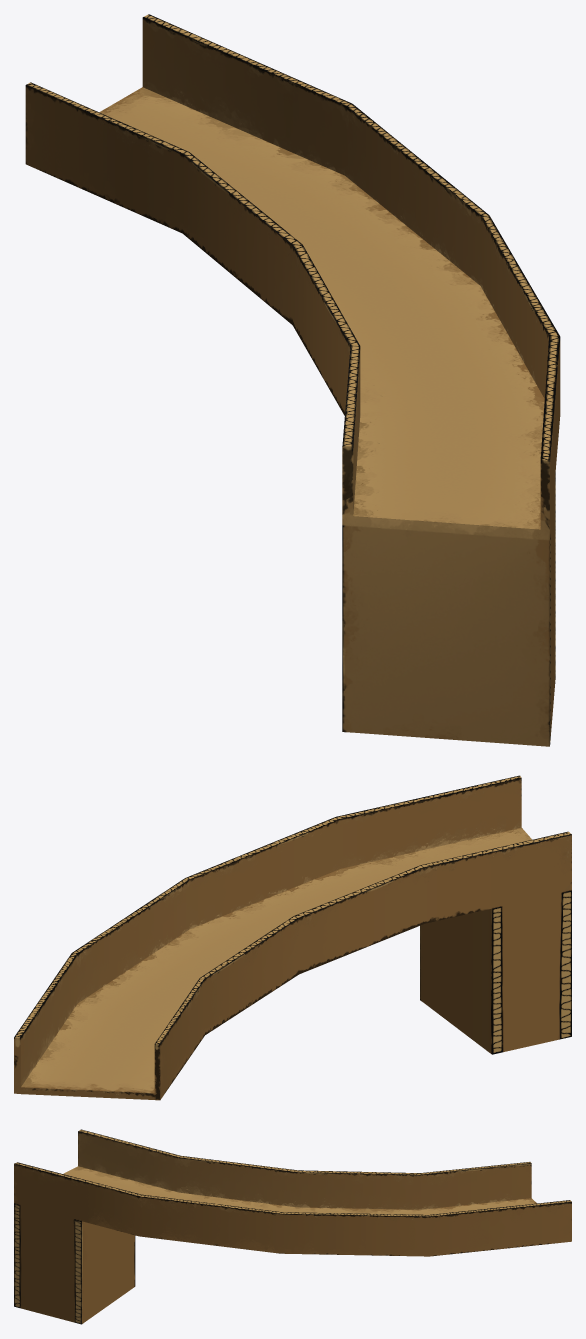
The model's file is SM_Part10_Playtrack.fbx.
The picture shows the model from 3 angles, top to bottom: view 1: azimuth 30°, elevation 25°; view 2: azimuth 150°, elevation 25°; view 3: azimuth 270°, elevation 25°; orthographic projection. The views are drawn at different scales.
Visible parts, largest first — view 1: Panel_10; view 2: Panel_10; view 3: Panel_10.
Boxes of the visible parts, x1,y1,x2,y2 form: Panel_10: (25, 14, 560, 746); Panel_10: (14, 775, 571, 1100); Panel_10: (14, 1129, 571, 1324).
Bounding box in the file's own units: 5314 × 4050 × 14329.
